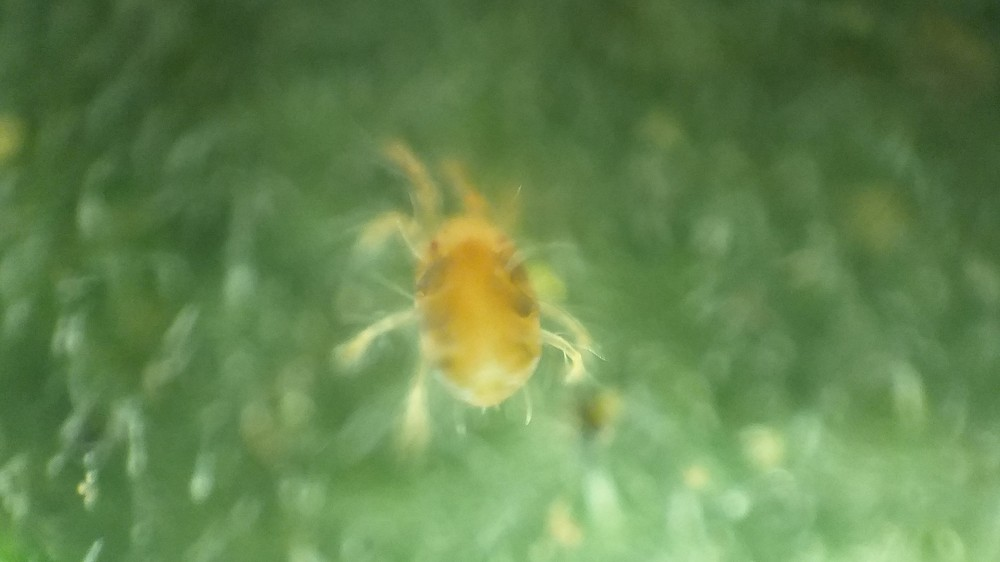Aracnido Rojo: (323, 129, 609, 472)
